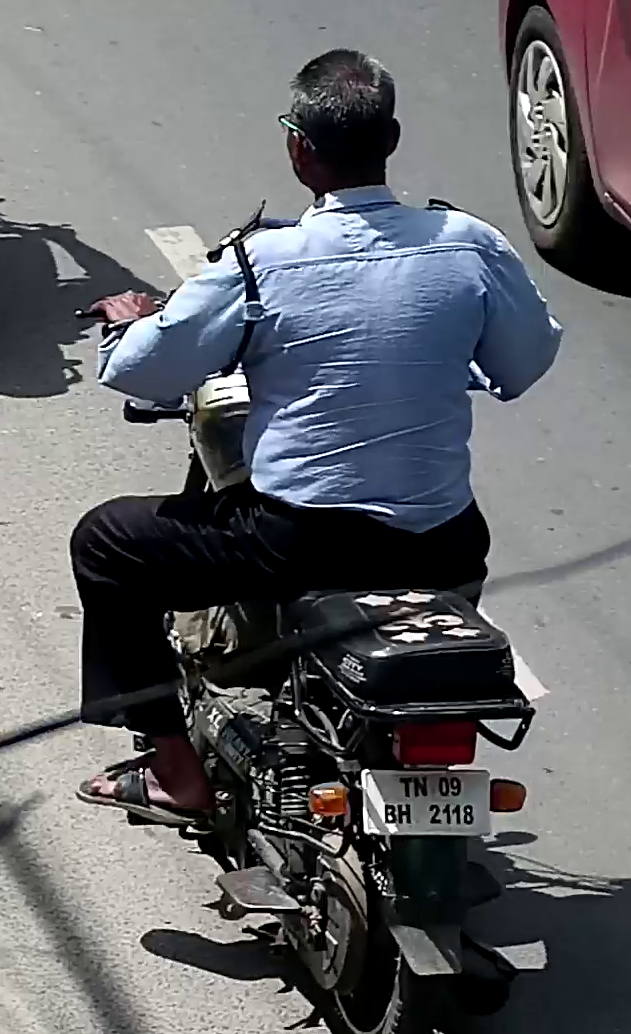0: (439, 776, 449, 796)
1: (443, 803, 452, 825), (453, 803, 461, 825)
2: (429, 804, 442, 823)
8: (463, 803, 474, 824)
9: (450, 776, 461, 796)
B: (384, 804, 396, 824)
H: (397, 803, 412, 824)
N: (413, 775, 428, 797)
P16: (362, 762, 492, 835)
T: (400, 776, 412, 797)
